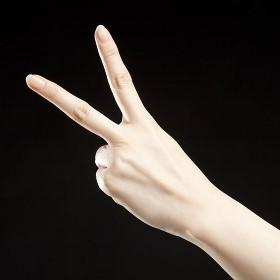tyoki: (25, 23, 202, 228)
